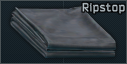Ripstop fabric: (0, 0, 127, 64)
